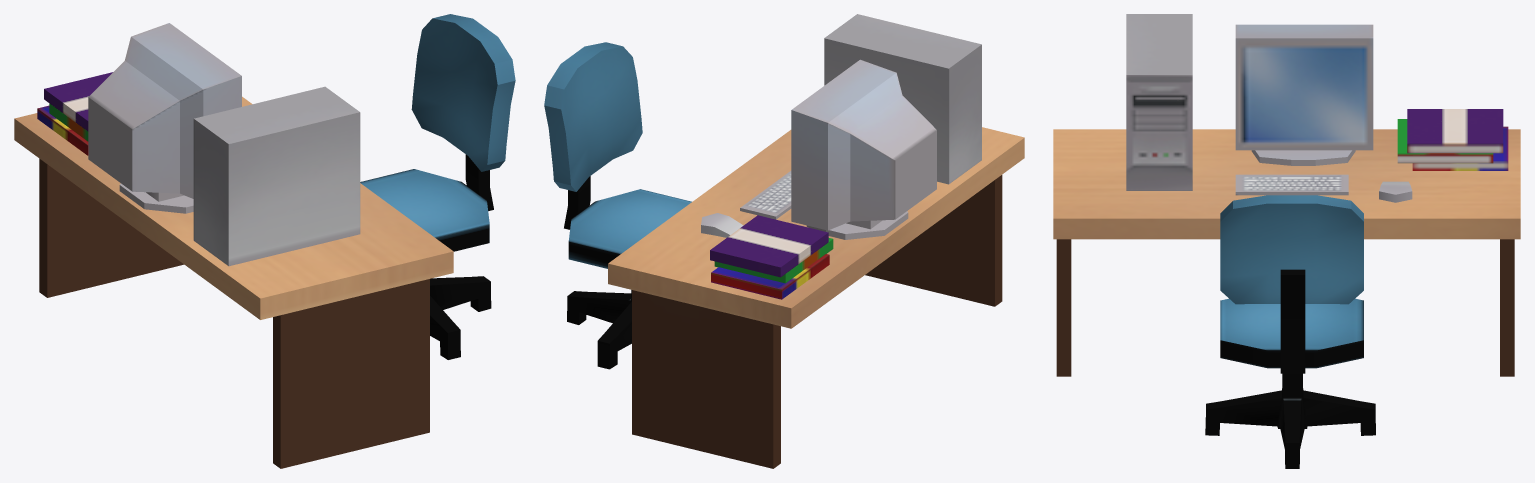
File: Lux_Comp_T1.fbx
3 renders of one model, left to right at view 1: azimuth 30°, elevation 25°; view 2: azimuth 150°, elevation 25°; view 3: azimuth 270°, elevation 25°, orthographic. The views are drawn at different scales.
Visible parts, largest first — view 1: Lux_Comp_T1; view 2: Lux_Comp_T1; view 3: Lux_Comp_T1.
Part boxes in pixels (x1,y1,x2,y2): Lux_Comp_T1: [14, 14, 515, 468]; Lux_Comp_T1: [544, 14, 1024, 468]; Lux_Comp_T1: [1053, 14, 1520, 468].
Bounding box in the file's own units: 7.22 × 5.94 × 8.29.
1 material, 1 textured.
